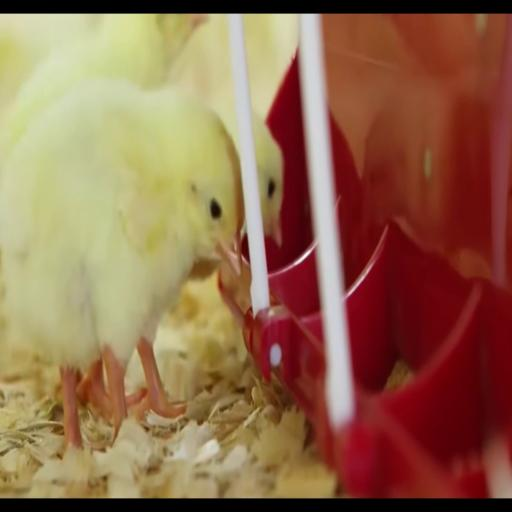chick: (0, 79, 243, 447), (253, 112, 283, 246)
